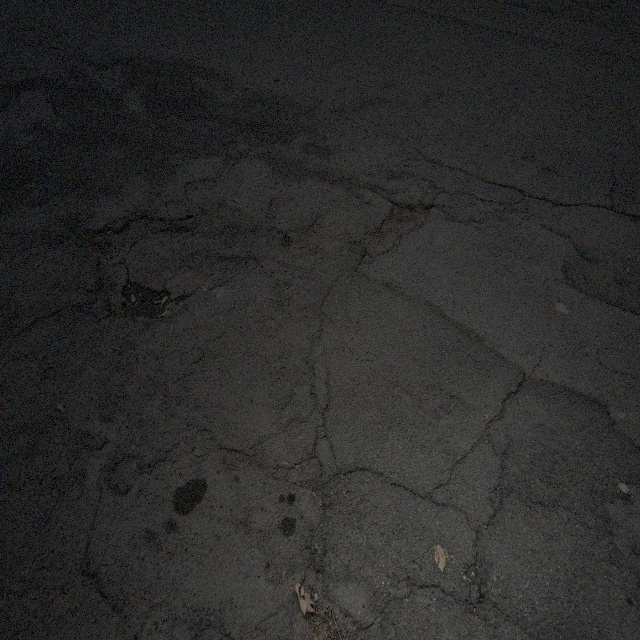pothole: (357, 196, 435, 273), (302, 580, 364, 638), (119, 274, 177, 324)
